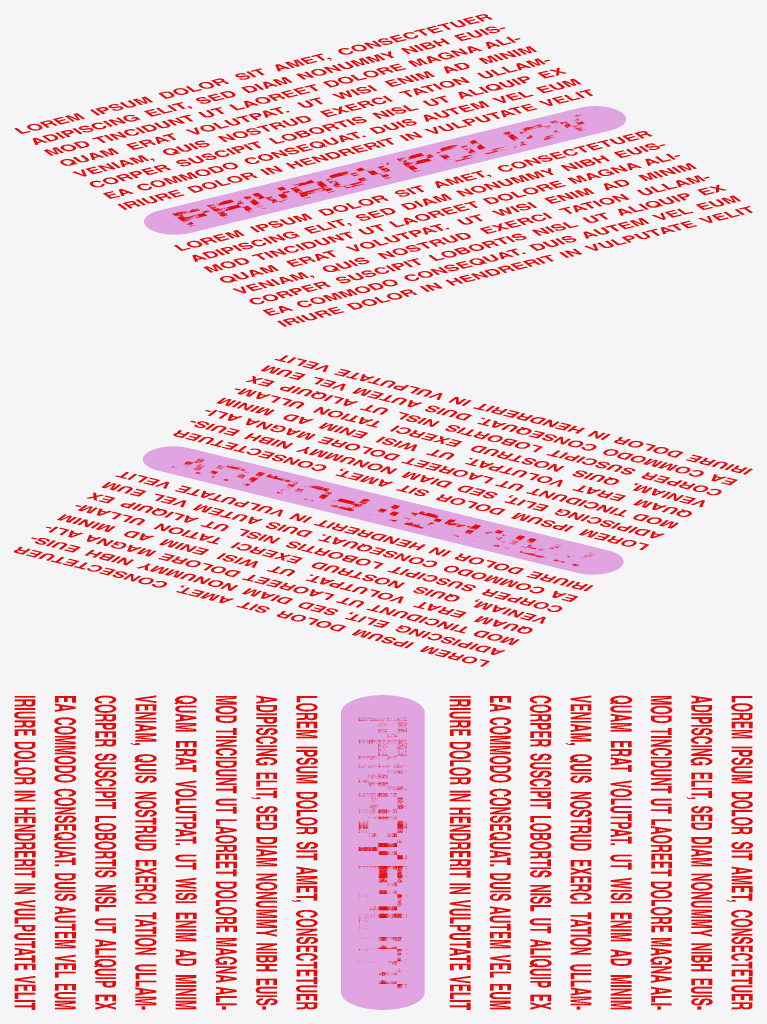
The model's file is 20230713_NAKED_AR1_privacy-04.glb.
The picture shows the model from 3 angles, top to bottom: view 1: azimuth 30°, elevation 25°; view 2: azimuth 150°, elevation 25°; view 3: azimuth 270°, elevation 25°; orthographic projection. The views are drawn at different scales.
Visible parts, largest first — view 1: Curve.004; view 2: Curve.004; view 3: Curve.004.
Part boxes in pixels (x1=…): Curve.004: x1=14, y1=14, x2=752, y2=326; Curve.004: x1=14, y1=355, x2=752, y2=666; Curve.004: x1=14, y1=695, x2=752, y2=1009.
Bounding box in the file's own units: 1.32 × 0 × 1.31.
